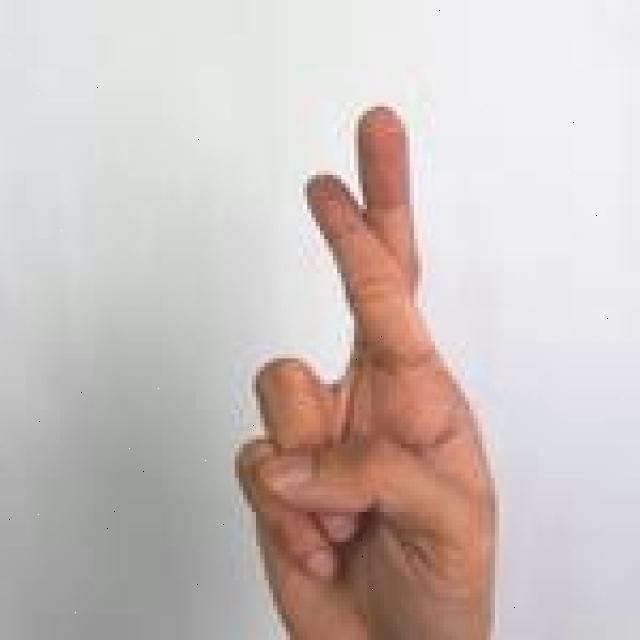R: (231, 94, 505, 640)
